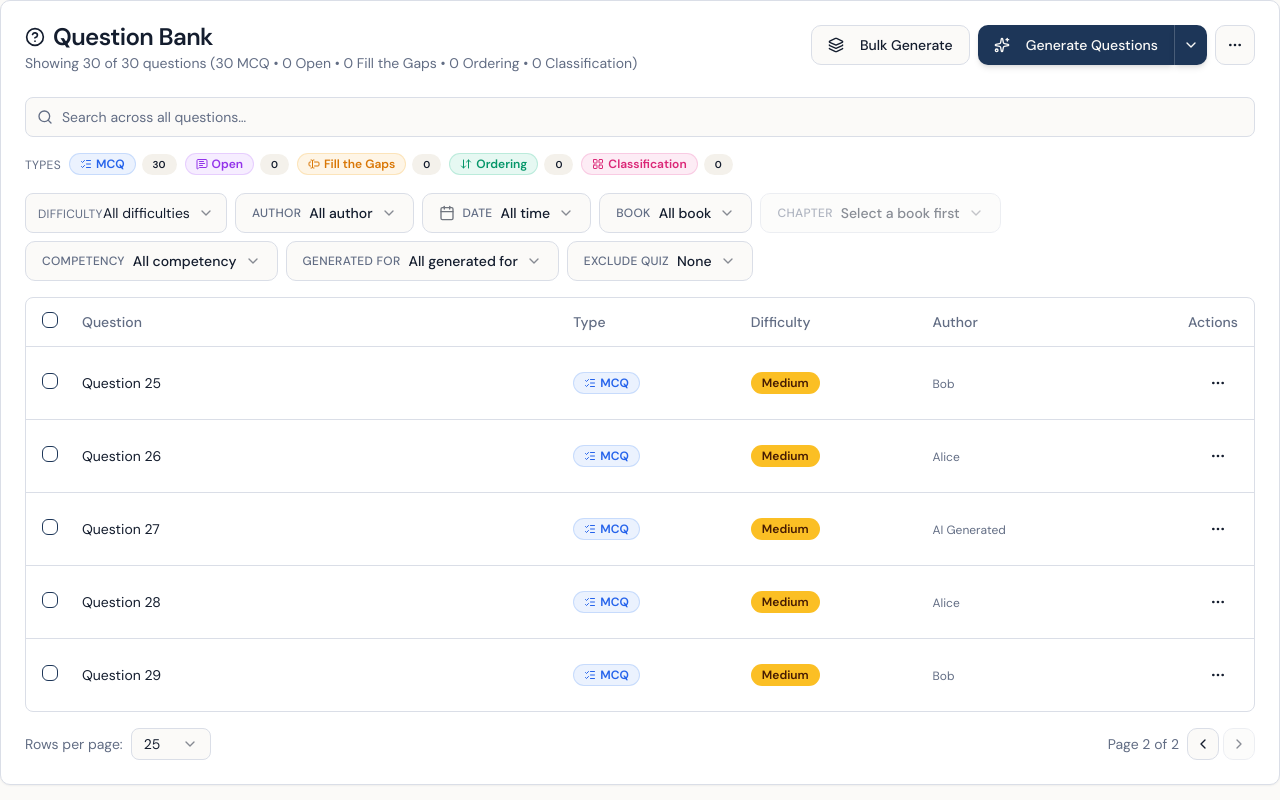
UnifiedQuestionBank #623 › changing page_size resets to page 1 and persists in the URL
Expected: the text with test id "bank-page-indicator" reads "Page 2 of 2", [1108,734,1179,754]
Click the dropdown with test id "bank-page-size" at (171, 744), box [131,728,211,760]
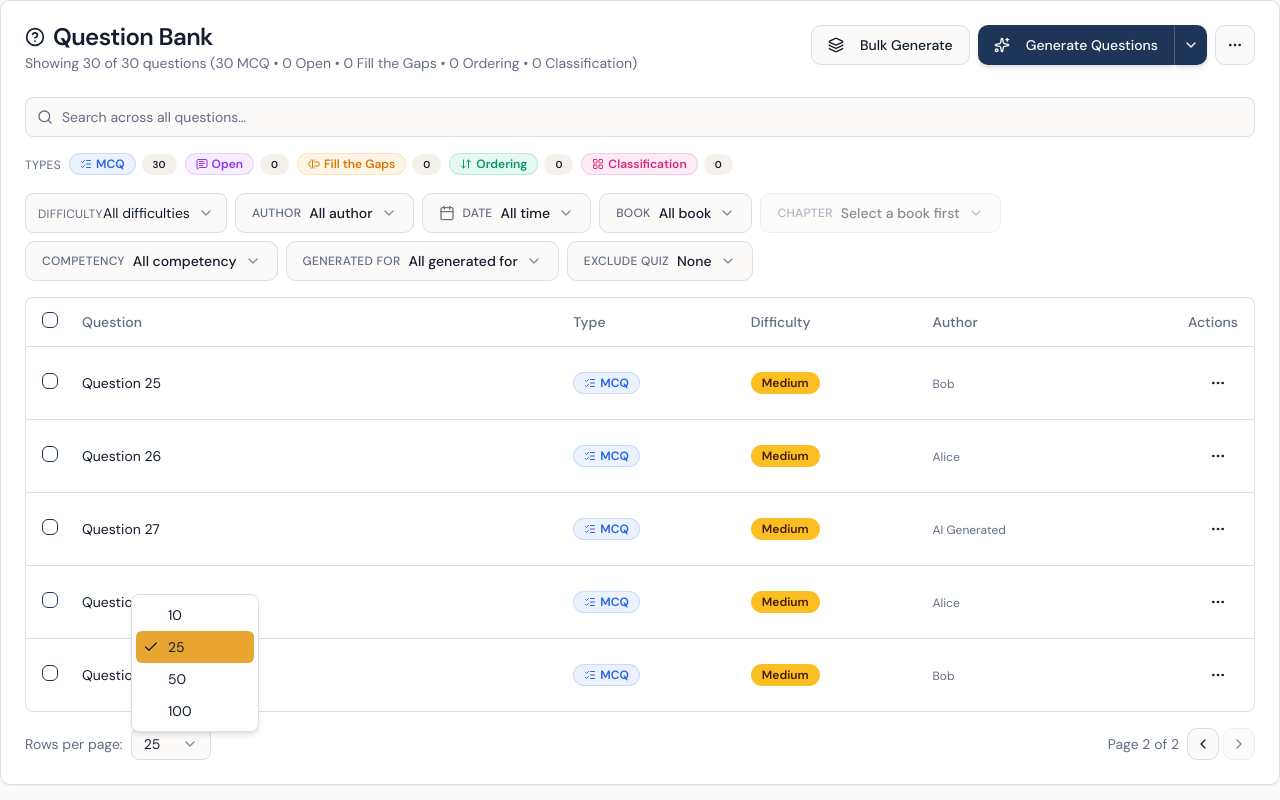
Click the option "50" at (177, 679), box [168,670,186,688]
(page scrolled)
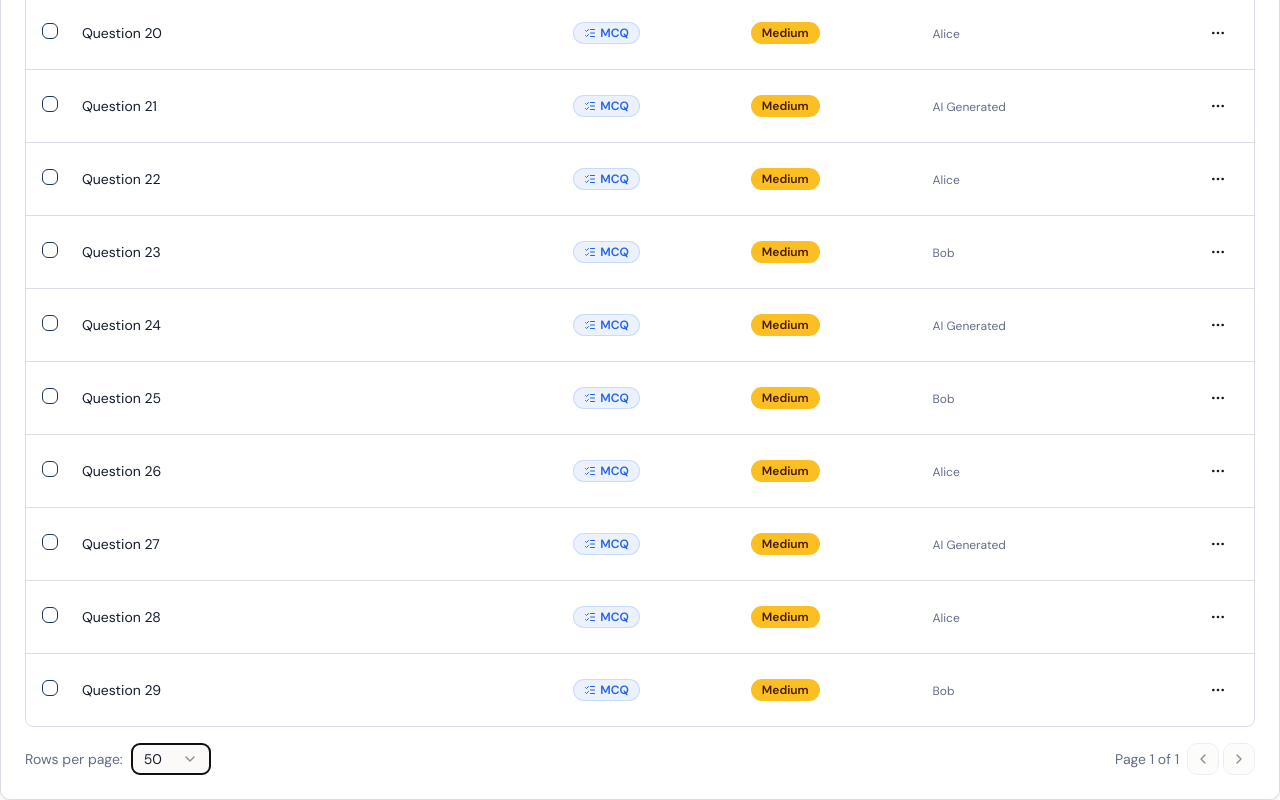
Now the text with test id "bank-page-indicator" reads "Page 1 of 1", box [1115,748,1179,768]
